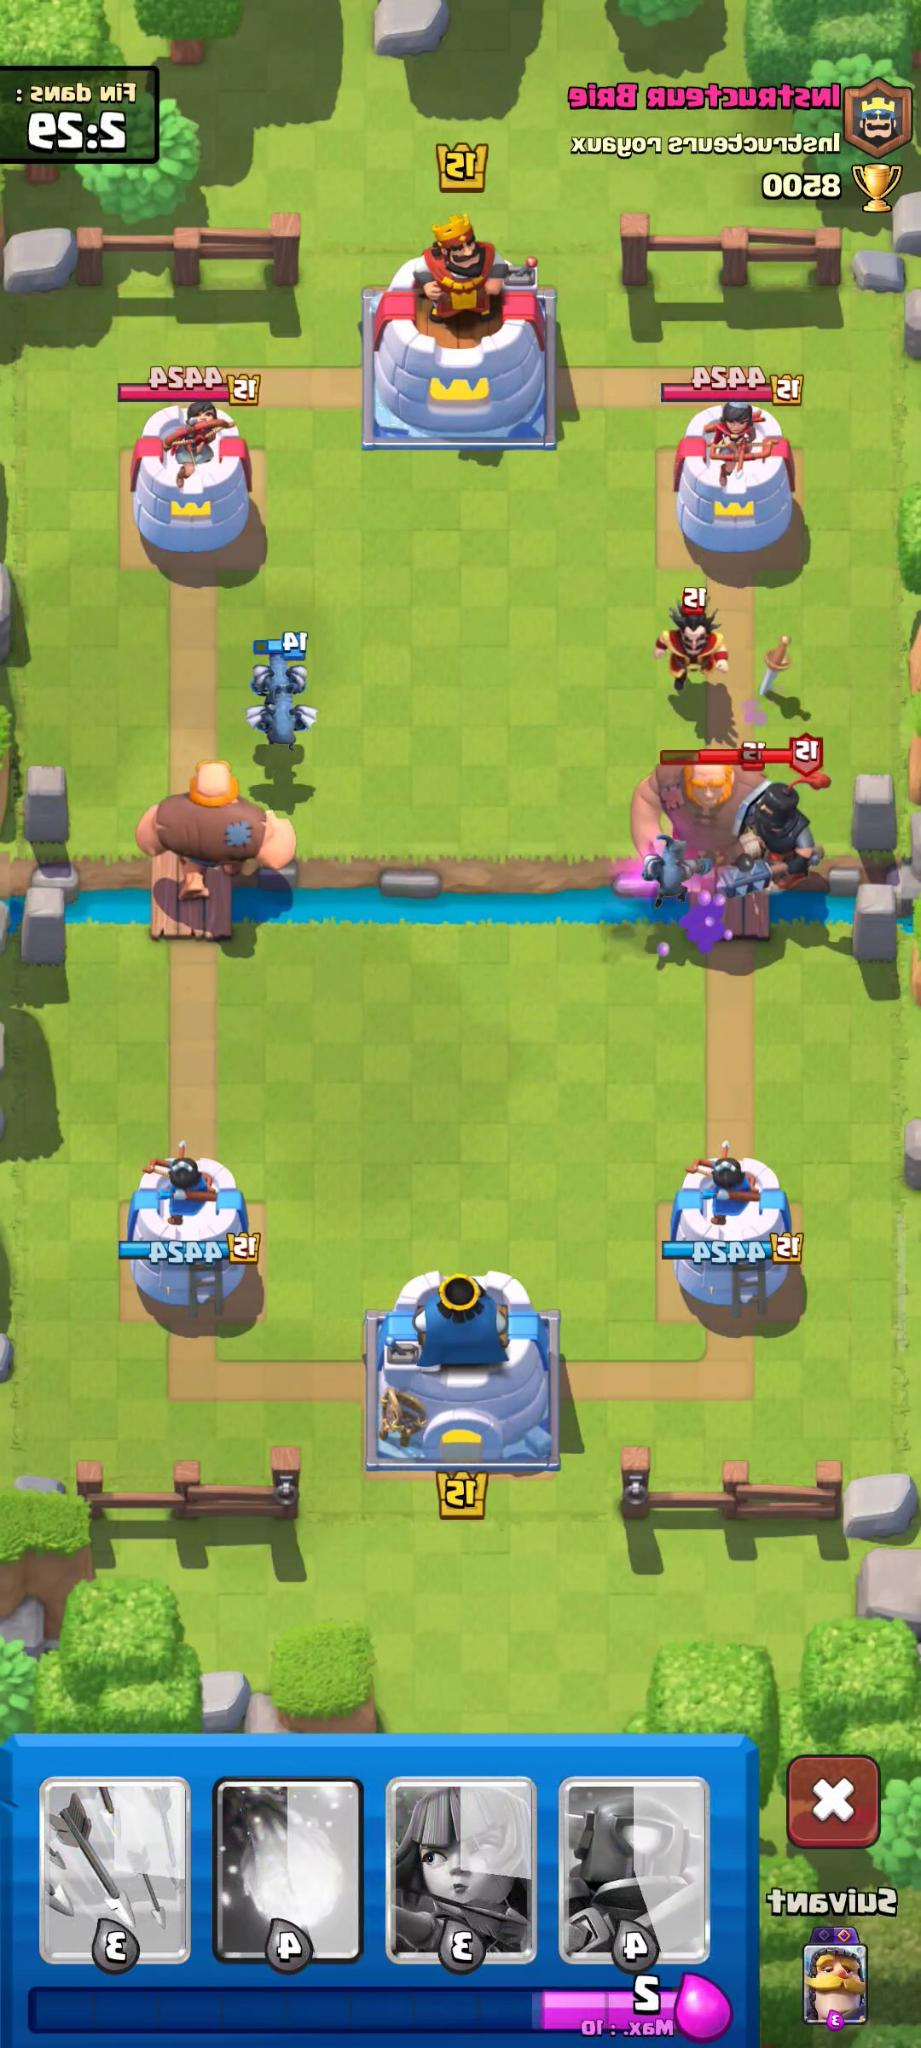gargouille: (221, 631, 317, 703), (248, 683, 317, 747), (640, 841, 691, 918)
geant: (136, 752, 299, 886), (634, 752, 773, 908)
